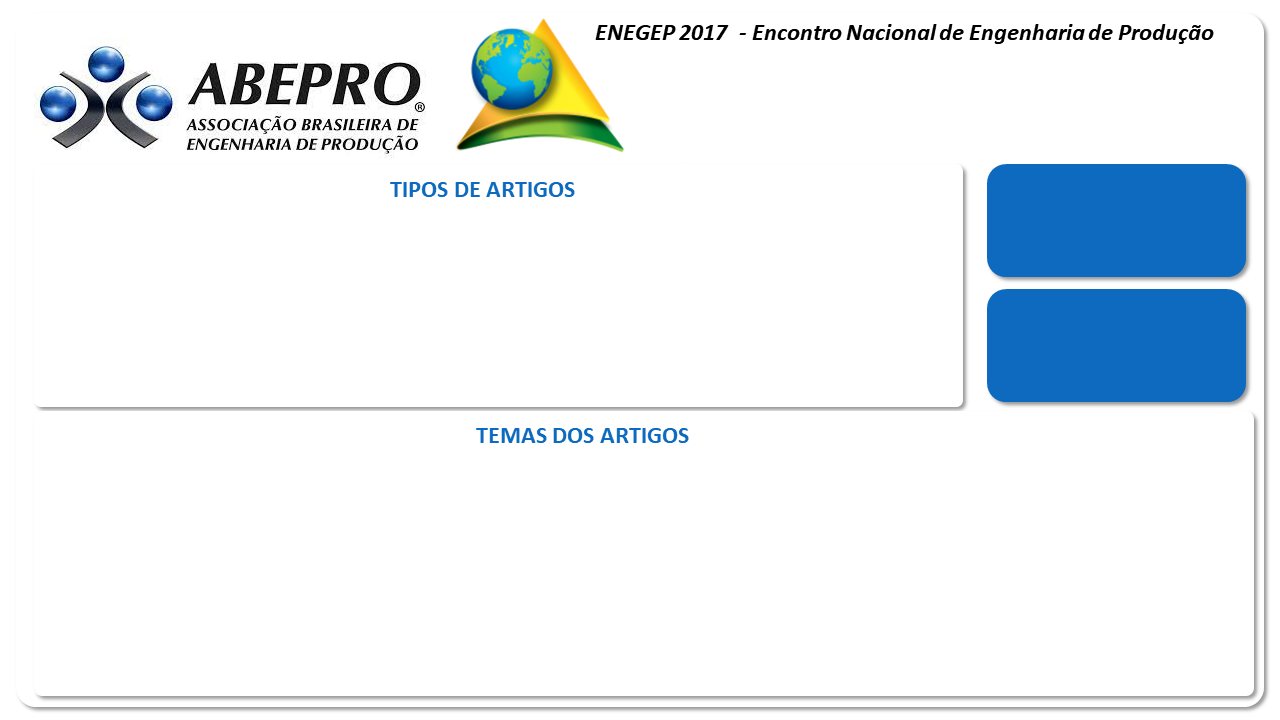

Layout of this report page (visuals, bound fields, positions):
{"tool":"powerbi","page":{"name":"Enegep 2017","canvas":[1280,720],"ordinal":0},"visuals":[{"type":"card","fields":{"Values":["Medidas.Qtd artigos"]},"box":[1007.1,158.6,270,112.9],"z":0},{"type":"card","fields":{"Values":["Sum(Artigo Final 2017.QTD AUTORES)"]},"box":[1021.4,271.4,255.7,131.4],"z":1000},{"type":"clusteredBarChart","title":"TEMAS DOS ARTIGOS","fields":{"Y":["Medidas.Qtd artigos"],"Category":["Artigo Final 2017.TEMA ARTIGO"]},"box":[0,428.6,1280,281.4],"z":2000},{"type":"columnChart","fields":{"Y":["Medidas.Qtd artigos"],"Category":["Artigo Final 2017.TIPO ARTIGO"]},"box":[25.7,148.6,981.4,244.3],"z":3000}]}

Visuals, with their boxes in screenshot pixels (x1, y1, x2, y2), scaled from the page's 1280x720 canvas onto the 1280x720 screenshot:
card - Medidas.Qtd artigos: bbox(1007, 159, 1277, 272)
card - Sum(Artigo Final 2017.QTD AUTORES): bbox(1021, 271, 1277, 403)
"TEMAS DOS ARTIGOS" clusteredBarChart: bbox(0, 429, 1279, 710)
columnChart - Medidas.Qtd artigos x Artigo Final 2017.TIPO ARTIGO: bbox(26, 149, 1007, 393)
